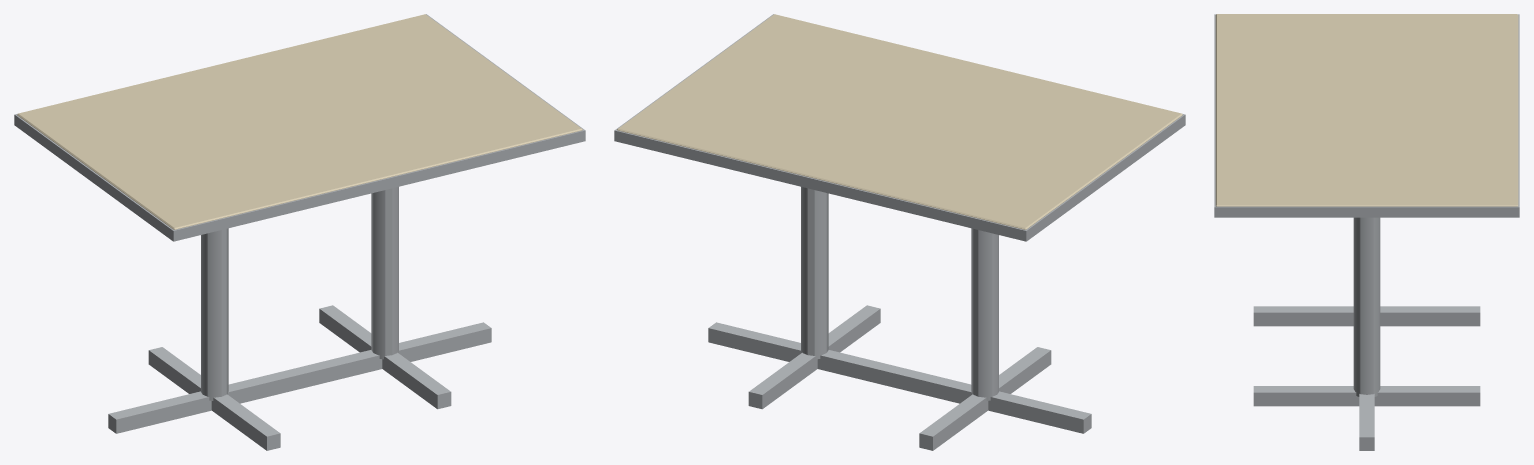
File: prop_diner_table_l120.glb
3 renders of one model, left to right at view 1: azimuth 30°, elevation 25°; view 2: azimuth 150°, elevation 25°; view 3: azimuth 270°, elevation 25°, orthographic. The views are drawn at different scales.
Parts seen in each view (by area): view 1: Table; view 2: Table; view 3: Table.
Boxes of the visible parts, x1,y1,x2,y2 form: Table: [14, 14, 585, 450]; Table: [614, 14, 1185, 450]; Table: [1214, 14, 1519, 450].
Size of what is drawn, in the model's own units: 1.21 by 0.74 by 0.808.
